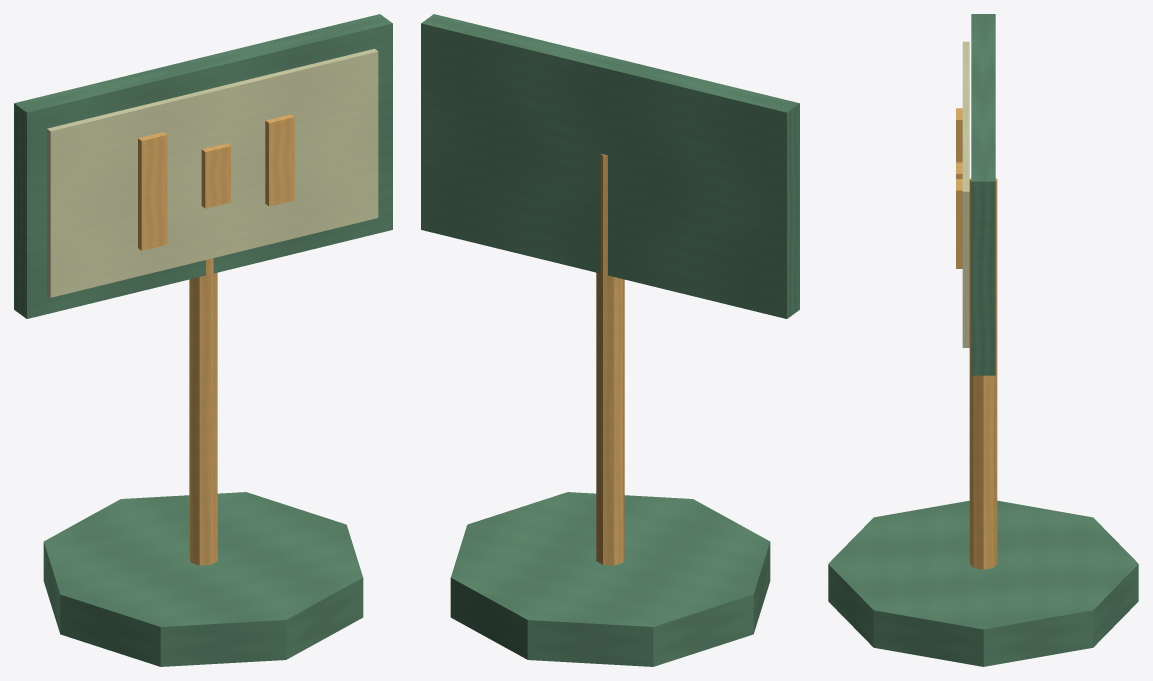
The model's file is atlas100-s002-a11.glb.
3 views of the same model, side by side, from view 1: azimuth 30°, elevation 25°; view 2: azimuth 150°, elevation 25°; view 3: azimuth 270°, elevation 25° (orthographic). The views are drawn at different scales.
Visible parts, largest first — view 1: atlas100-s002-a11:part-003, atlas100-s002-a11:part-000, atlas100-s002-a11:part-002, atlas100-s002-a11:part-001, atlas100-s002-a11:part-004, atlas100-s002-a11:part-006, atlas100-s002-a11:part-005; view 2: atlas100-s002-a11:part-002, atlas100-s002-a11:part-000, atlas100-s002-a11:part-001; view 3: atlas100-s002-a11:part-000, atlas100-s002-a11:part-002, atlas100-s002-a11:part-001, atlas100-s002-a11:part-003, atlas100-s002-a11:part-006.
Boxes of the visible parts, bbox=[...] form: atlas100-s002-a11:part-003: bbox=[47, 48, 378, 297]; atlas100-s002-a11:part-000: bbox=[43, 492, 363, 666]; atlas100-s002-a11:part-002: bbox=[14, 14, 392, 318]; atlas100-s002-a11:part-001: bbox=[189, 258, 217, 565]; atlas100-s002-a11:part-004: bbox=[138, 132, 167, 250]; atlas100-s002-a11:part-006: bbox=[265, 114, 294, 206]; atlas100-s002-a11:part-005: bbox=[201, 143, 230, 208]; atlas100-s002-a11:part-002: bbox=[421, 14, 799, 318]; atlas100-s002-a11:part-000: bbox=[450, 492, 770, 666]; atlas100-s002-a11:part-001: bbox=[596, 154, 624, 565]; atlas100-s002-a11:part-000: bbox=[828, 500, 1138, 666]; atlas100-s002-a11:part-002: bbox=[971, 14, 995, 375]; atlas100-s002-a11:part-001: bbox=[969, 178, 997, 569]; atlas100-s002-a11:part-003: bbox=[962, 41, 969, 347]; atlas100-s002-a11:part-006: bbox=[956, 179, 962, 268].
Bounding box in the file's own units: 1.15 × 1.61 × 0.9.
3 materials, 3 textured.
